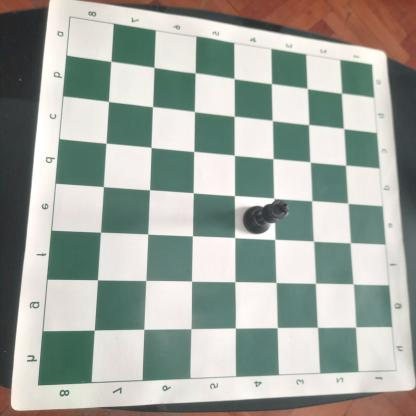black-king: (242, 198, 291, 236)
